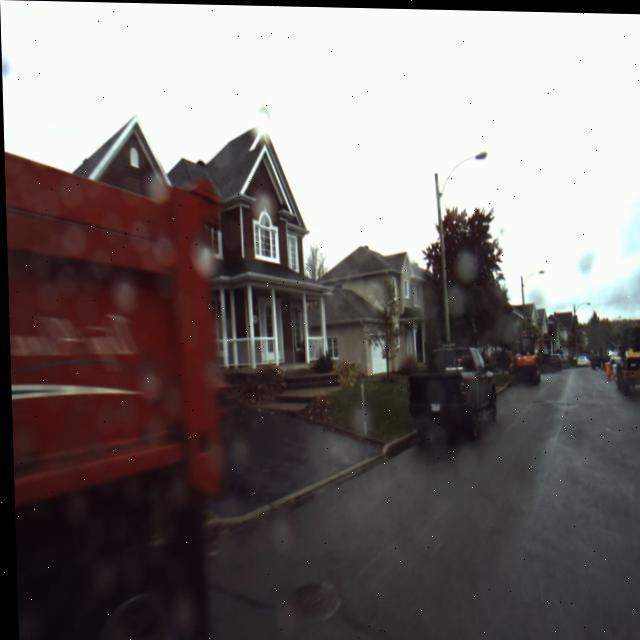car: (403, 330, 499, 457)
